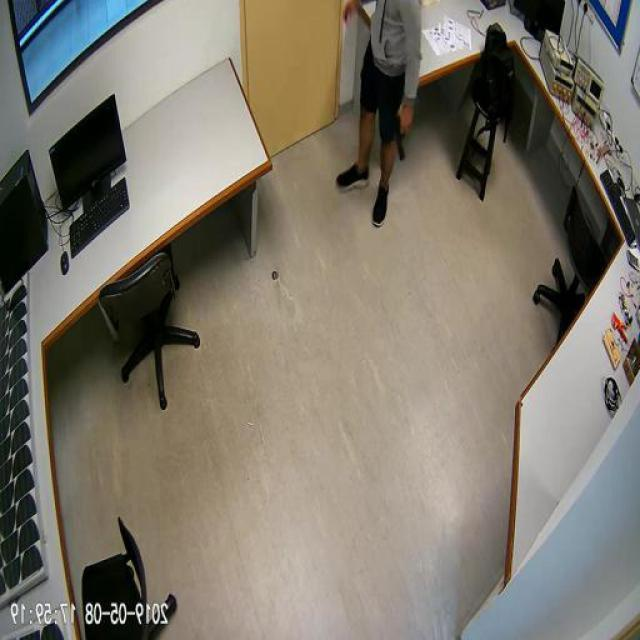weapon: (390, 105, 418, 163)
